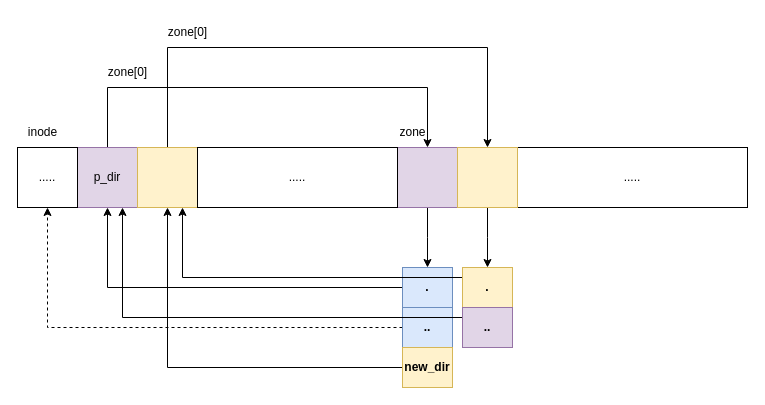
The diagram is 765 pixels wide and 405 high, and some of its shapes have lost their labels. The centre of each missing label's shape, as x and y in pixels:
"p_dentry" belongs at point (427, 177).
"t_dentry" belongs at point (487, 177).
"target_dir" belongs at point (167, 177).
